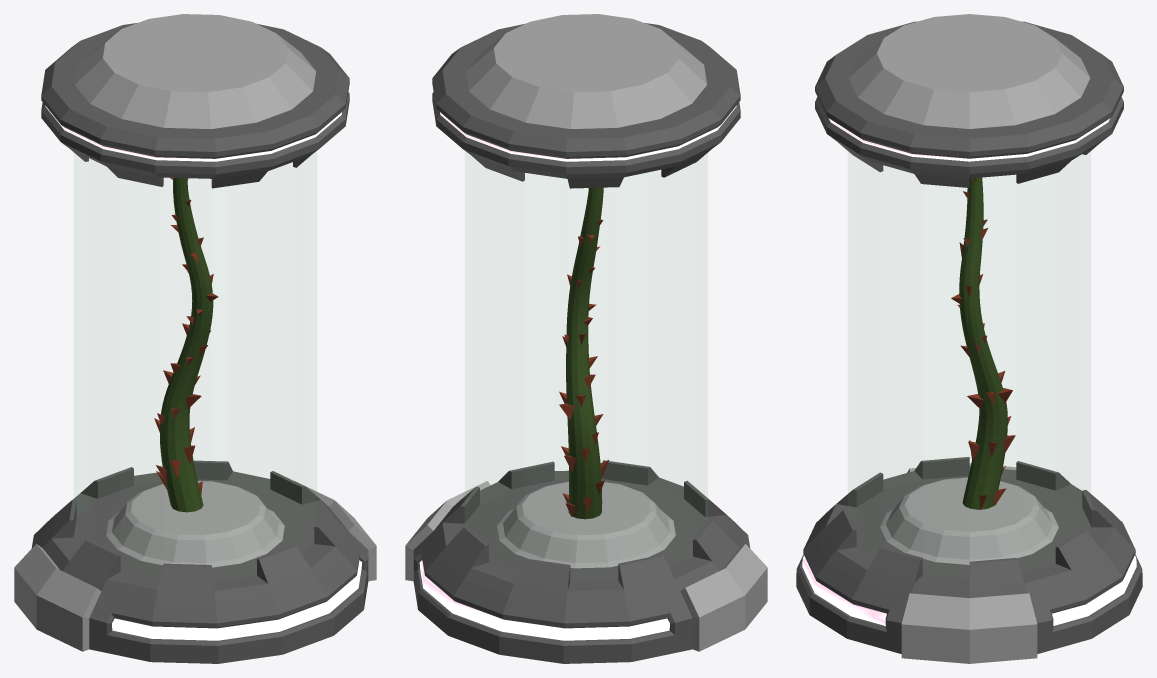
Rendered from SM_HostileScienceContainer.fbx.
3 views of the same model, side by side, from view 1: azimuth 30°, elevation 25°; view 2: azimuth 150°, elevation 25°; view 3: azimuth 270°, elevation 25° (orthographic).
Parts seen in each view (by area): view 1: SM_HostileScienceContainer; view 2: SM_HostileScienceContainer; view 3: SM_HostileScienceContainer.
Part boxes in pixels (x1,y1,x2,y2): SM_HostileScienceContainer: (14, 14, 376, 663); SM_HostileScienceContainer: (405, 14, 767, 663); SM_HostileScienceContainer: (796, 14, 1142, 663).
Size of the model in its own units: 135 by 218 by 128.
